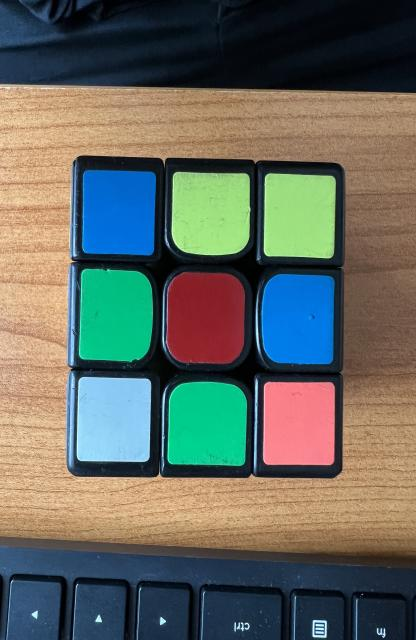Blue: (261, 274, 335, 364), (82, 170, 156, 255)
Green: (79, 269, 153, 361), (168, 381, 247, 466)
Orange: (263, 381, 335, 465)
Red: (166, 272, 245, 364)
White: (77, 376, 152, 462)
Yellow: (171, 171, 250, 255), (263, 174, 336, 259)
